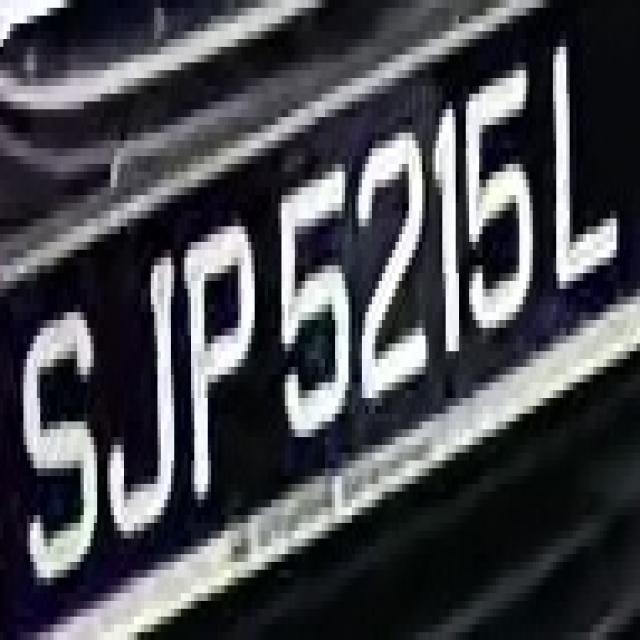1: (429, 78, 472, 390)
2: (352, 125, 432, 429)
5: (265, 148, 352, 468), (459, 62, 540, 336)
J: (111, 258, 181, 554)
L: (546, 55, 623, 328)
P: (178, 195, 251, 531)
S: (13, 288, 108, 616)
